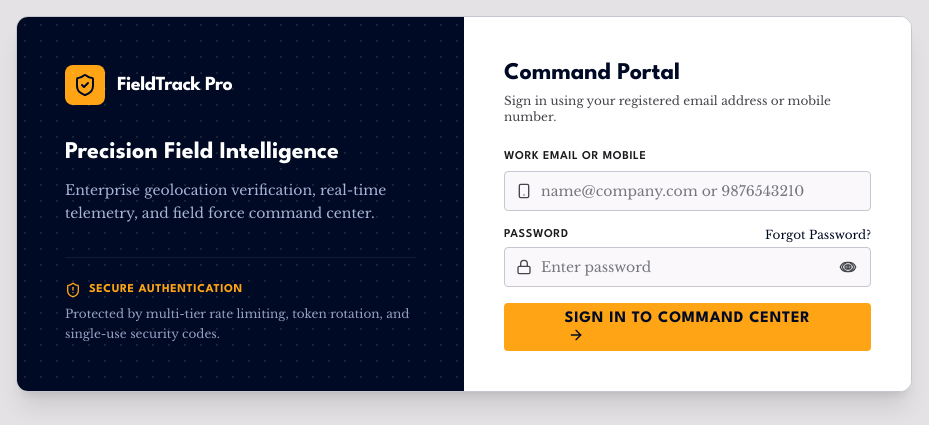
Test case: LoginPage and Password Recovery Flow › navigates to Step 1 Forgot Password on click
What coordinates should you click on to do the following:
click the button "Forgot Password?"
I would click on:
 (818, 235)
Its box is [765,227,871,243].
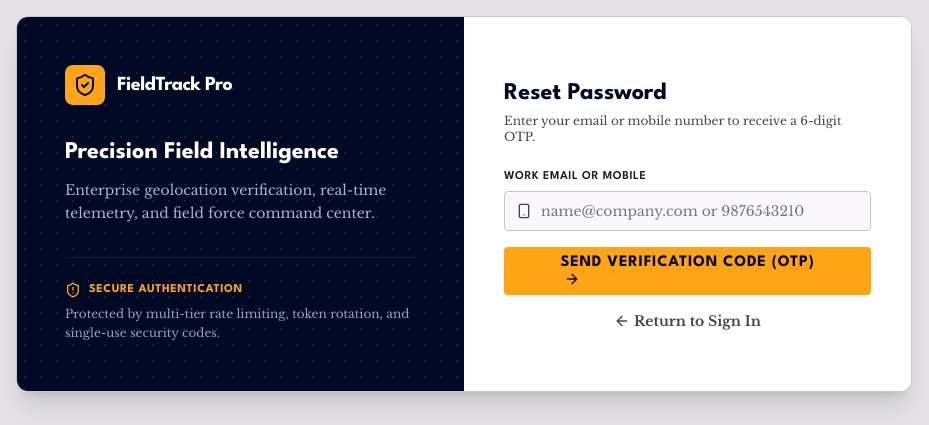
Expected: the heading "Reset Password" is shown, [504,82,667,104]
Expected: the button "Send Verification Code (OTP)" is shown, [504,247,871,295]
